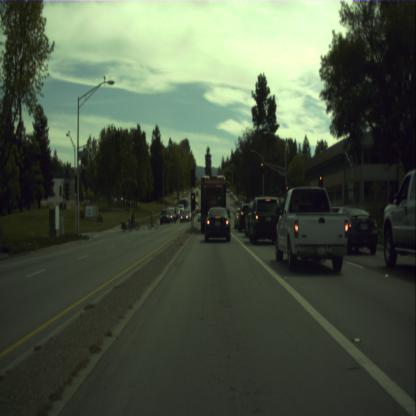Red: (319, 175, 322, 190), (261, 162, 263, 170), (286, 186, 288, 192)
RedLeft: (192, 194, 194, 210)
off: (191, 169, 194, 186)
